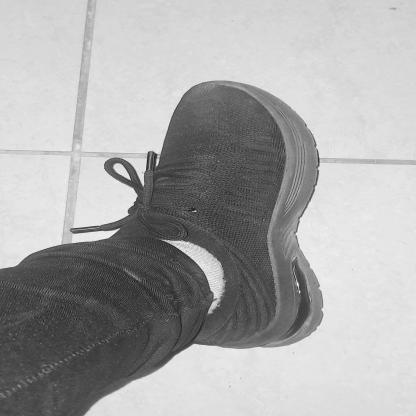ankle: (218, 274, 225, 278)
heel: (268, 337, 280, 343)
left_foot: (149, 81, 315, 349)
pinky: (183, 102, 191, 105)
toe: (247, 98, 255, 102)
